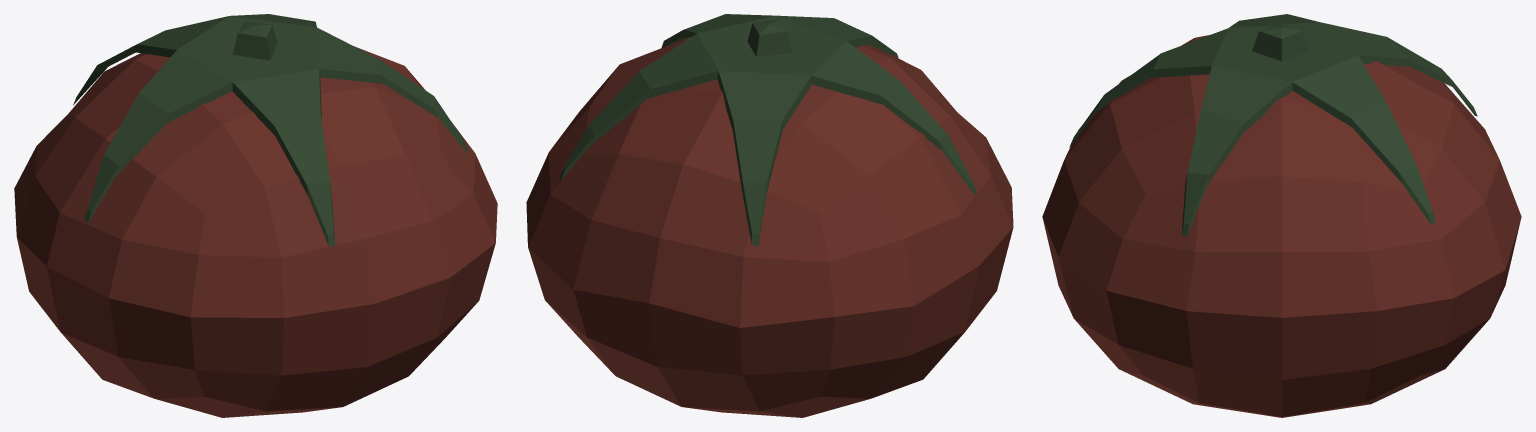
Rendered from Tomato.gltf.
The picture shows the model from 3 angles, left to right: view 1: azimuth 30°, elevation 25°; view 2: azimuth 150°, elevation 25°; view 3: azimuth 270°, elevation 25°; orthographic projection.
Visible parts, largest first — view 1: Tomato; view 2: Tomato; view 3: Tomato.
Part boxes in pixels (bbox=[...]): Tomato: bbox=[14, 14, 497, 417]; Tomato: bbox=[526, 14, 1013, 417]; Tomato: bbox=[1042, 14, 1521, 417].
Size of the model in its own units: 0.7525 by 0.6264 by 0.7525.
